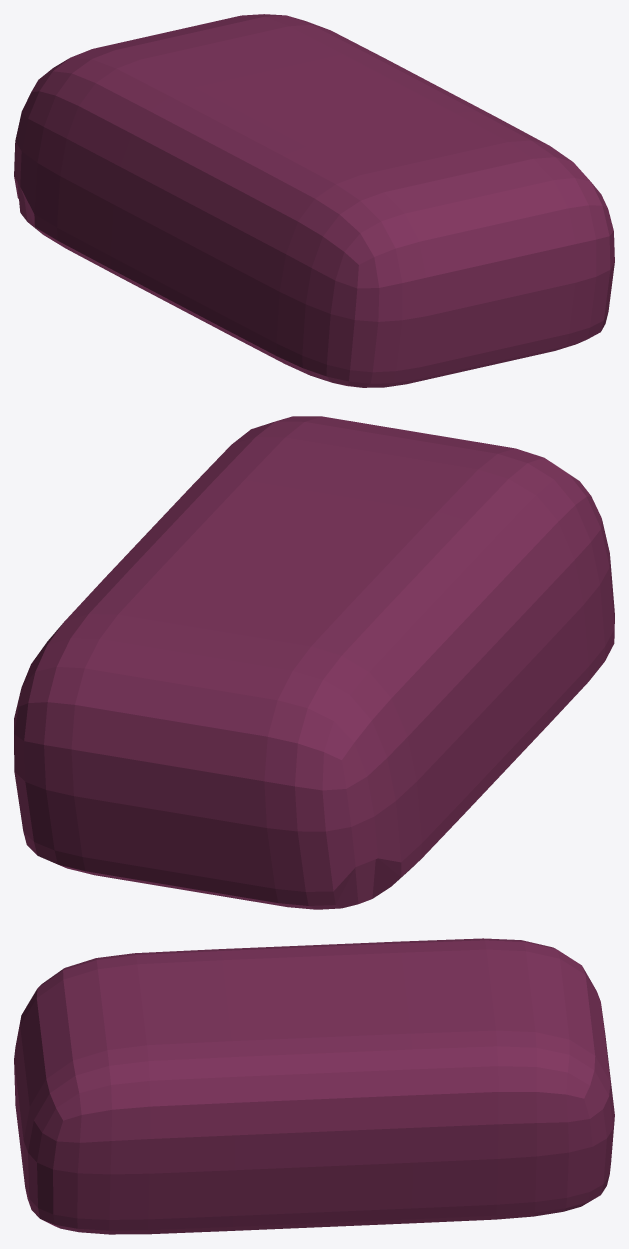
File: Bush1.fbx
3 views of the same model, one above another, from view 1: azimuth 30°, elevation 25°; view 2: azimuth 150°, elevation 25°; view 3: azimuth 270°, elevation 25° (orthographic). The views are drawn at different scales.
Visible parts, largest first — view 1: Bush1; view 2: Bush1; view 3: Bush1.
Boxes of the visible parts, x1=… form: Bush1: x1=14, y1=14, x2=614, y2=387; Bush1: x1=14, y1=416, x2=614, y2=909; Bush1: x1=14, y1=938, x2=614, y2=1234.
Size of the model in its own units: 1.37 by 0.7225 by 2.08.
